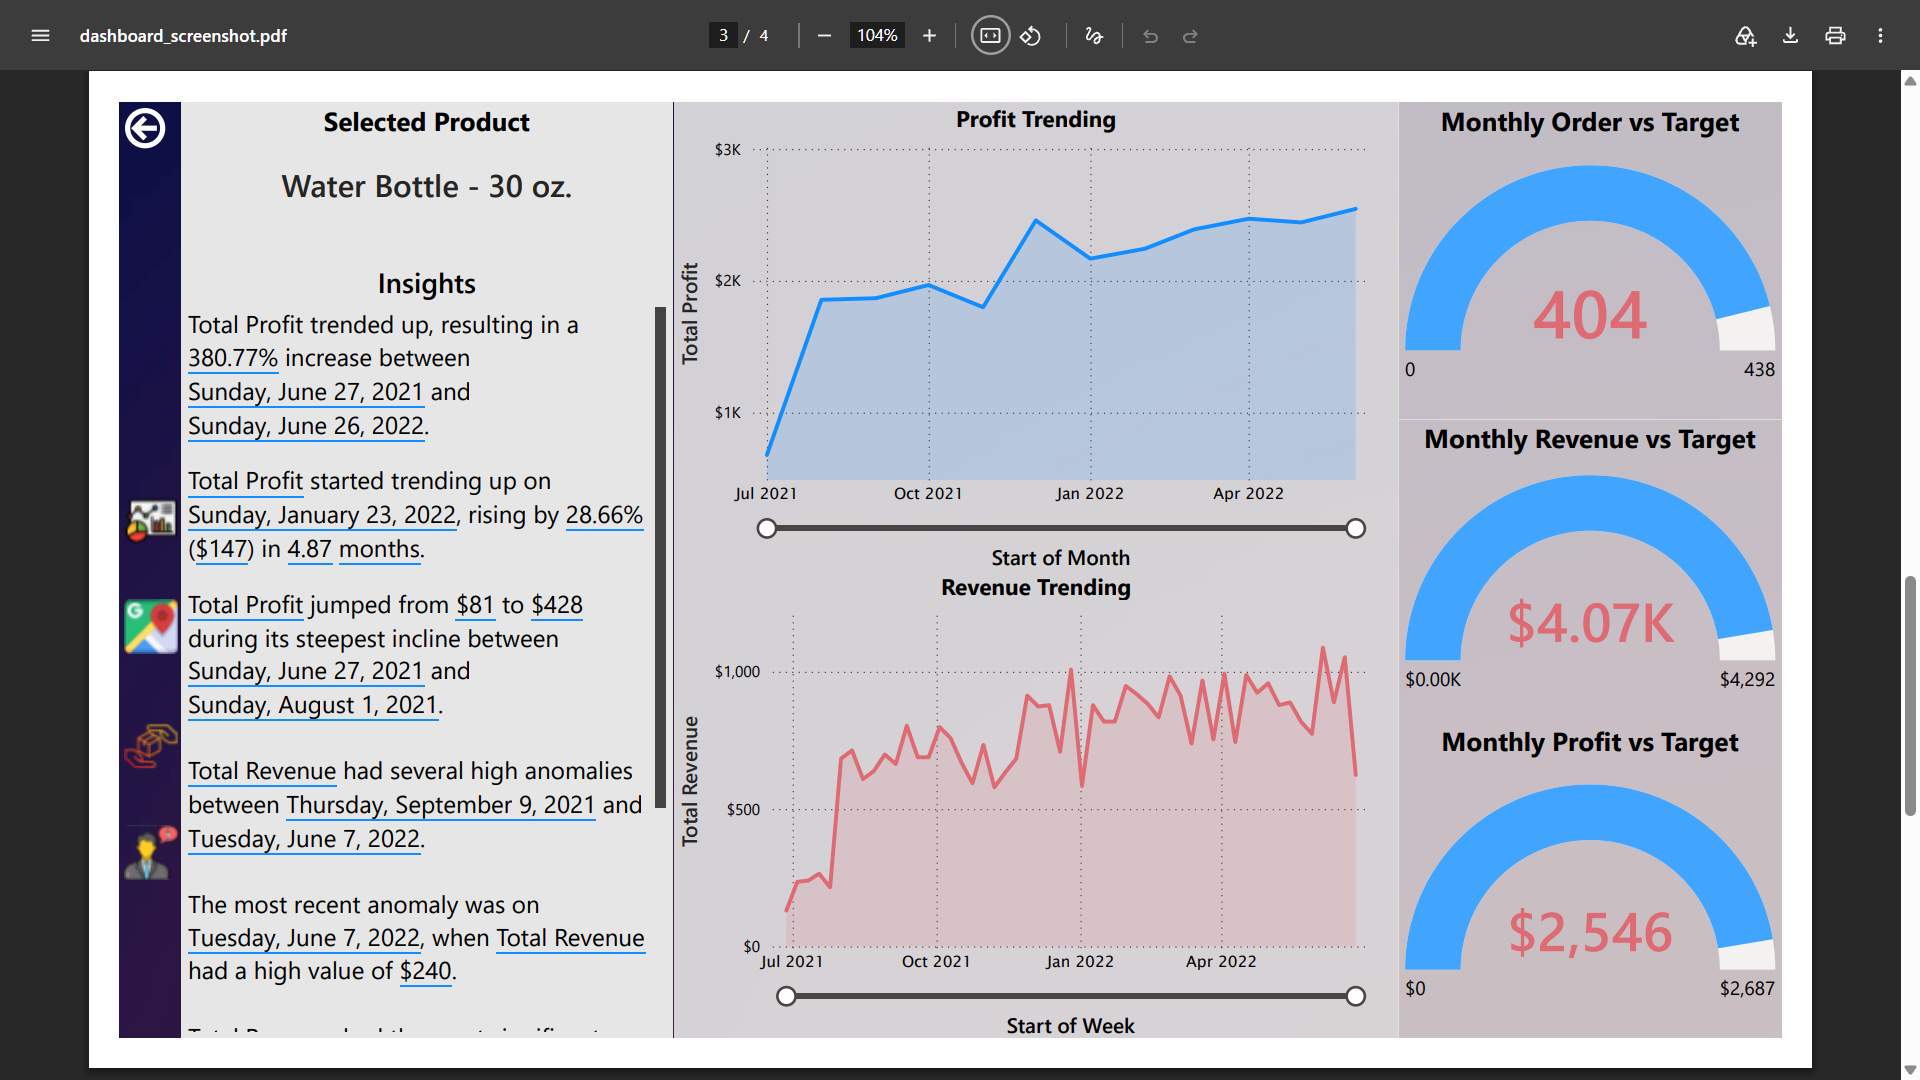

The page's visual inventory and layout, read from the dashboard file:
{"tool":"powerbi","page":{"name":"Product Details","canvas":[1280,720],"ordinal":2},"visuals":[{"type":"shape","title":"Left Nav Bar","box":[0,0,48,720.3],"z":0},{"type":"gauge","title":"Monthly Order vs Target","fields":{"MaxValue":["Table Measure.Order Target"],"Y":["Table Measure.Total Orders"]},"box":[985.2,0,294.8,244.5],"z":1000},{"type":"actionButton","box":[0,545,100,65],"z":1000,"group":"g1"},{"type":"actionButton","box":[0,468.3,100,52.5],"z":1500,"group":"g1"},{"type":"gauge","title":"Monthly Revenue vs Target","fields":{"MaxValue":["Table Measure.Target Revenue"],"Y":["Table Measure.Total Revenue"]},"box":[985.2,244.5,294.8,232.5],"z":2000},{"type":"actionButton","box":[0,377.1,100,52.5],"z":2000,"group":"g1"},{"type":"gauge","title":"Monthly Profit vs Target","fields":{"MaxValue":["Table Measure.Profit Target"],"Y":["Table Measure.Total Profit"]},"box":[985.2,477,294.8,243.3],"z":3000},{"type":"areaChart","title":"Profit Trending","fields":{"Category":["Calendar Lookup.Start of Month"],"Y":["Table Measure.Total Profit"]},"box":[426.7,0,558.5,359.6],"z":4000},{"type":"actionButton","box":[0,283.8,100,76.2],"z":4000,"group":"g1"},{"type":"areaChart","title":"Revenue Trending","fields":{"Category":["Calendar Lookup.Date Hierarchy.Start of Year","Calendar Lookup.Date Hierarchy.Start of Month","Calendar Lookup.Date Hierarchy.Start of Week","Calendar Lookup.Date Hierarchy.Date"],"Y":["Table Measure.Total Revenue"]},"box":[426.7,359.6,558.5,360.7],"z":5000},{"type":"actionButton","box":[6.2,8.8,82.5,40],"z":6000},{"type":"cardVisual","title":"Selected Product","fields":{"Rows":["Product Lookup.ProductName"]},"box":[47.5,0,378.8,122.5],"z":7000},{"type":"textbox","title":"Insights ","box":[47.5,123.8,378.8,596.2],"z":8000},{"type":"group","id":"g1","title":"Navigation","box":[0,283.8,100,326.2],"z":8001}]}

Visuals, with their boxes on the page's 1280x720 design canvas (x1, y1, x2, y2). These are canvas units, not pixel positions in the 1920x1080 screenshot, which may show the page scaled, cropped or inside an application window:
"Left Nav Bar" shape: Rect(0, 0, 48, 720)
"Monthly Order vs Target" gauge: Rect(985, 0, 1280, 244)
actionButton: Rect(0, 545, 100, 610)
actionButton: Rect(0, 468, 100, 521)
"Monthly Revenue vs Target" gauge: Rect(985, 244, 1280, 477)
actionButton: Rect(0, 377, 100, 430)
"Monthly Profit vs Target" gauge: Rect(985, 477, 1280, 720)
"Profit Trending" areaChart: Rect(427, 0, 985, 360)
actionButton: Rect(0, 284, 100, 360)
"Revenue Trending" areaChart: Rect(427, 360, 985, 720)
actionButton: Rect(6, 9, 89, 49)
"Selected Product" cardVisual: Rect(48, 0, 426, 122)
"Insights " textbox: Rect(48, 124, 426, 720)
"Navigation" group: Rect(0, 284, 100, 610)
